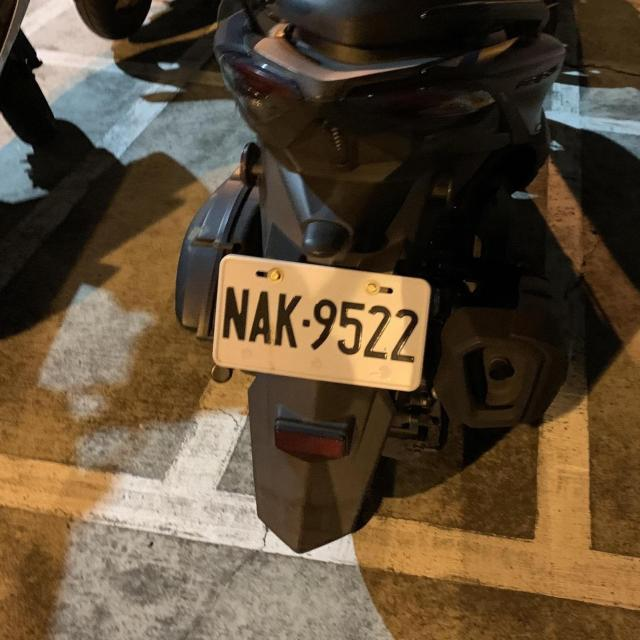W: (202, 244, 435, 395)
